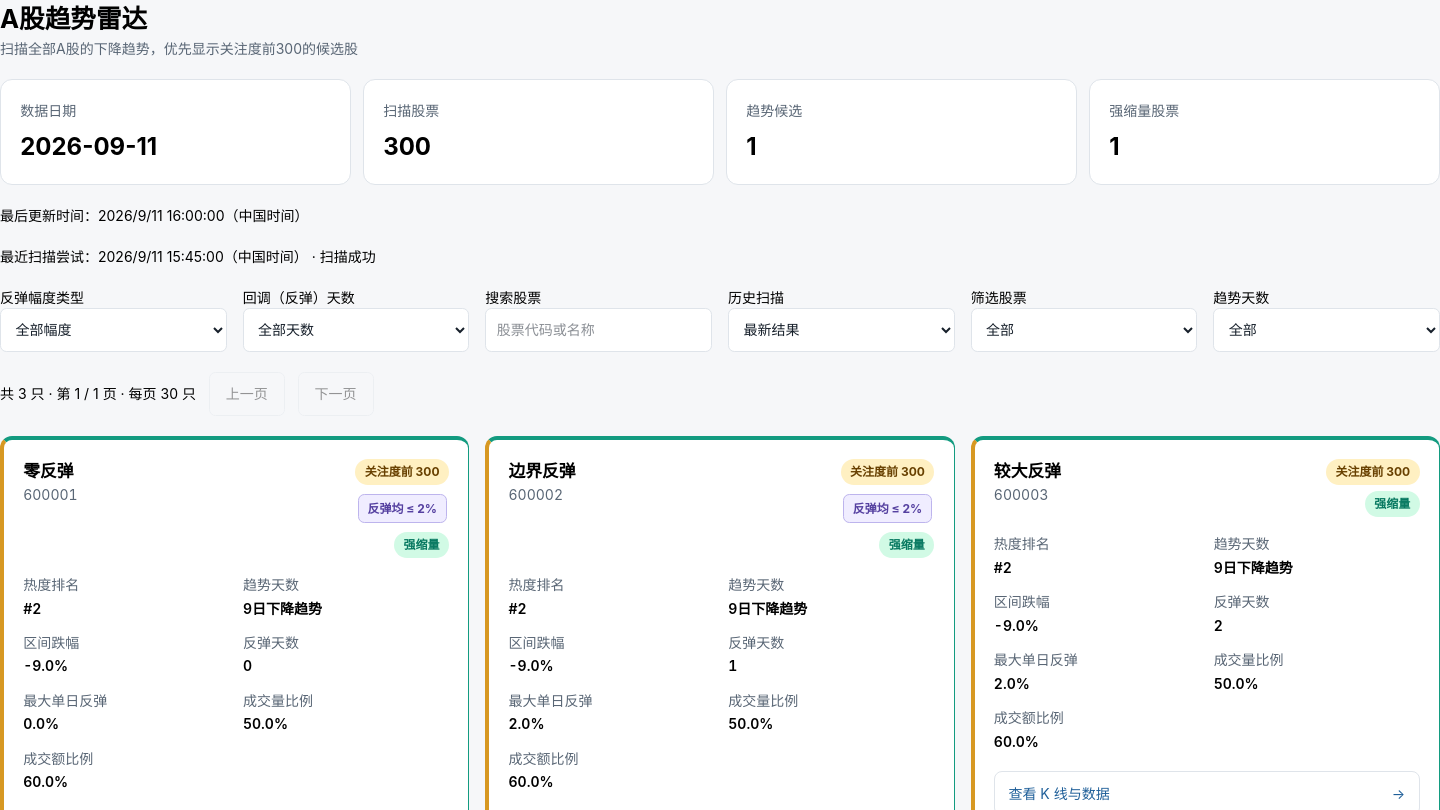
Test: Trend Radar › combines rebound-day and mild-amplitude filters without excluding larger rebounds by default
Expected: the link "较大反弹" is shown, [994,461,1061,481]
Expected: the text "反弹均 ≤ 2%" is shown 2 times, [358,494,447,523]; [843,494,932,523]
Select "0 天反弹" in the dropdown labelled "回调（反弹）天数" at [356, 330], box [243,308,469,352]
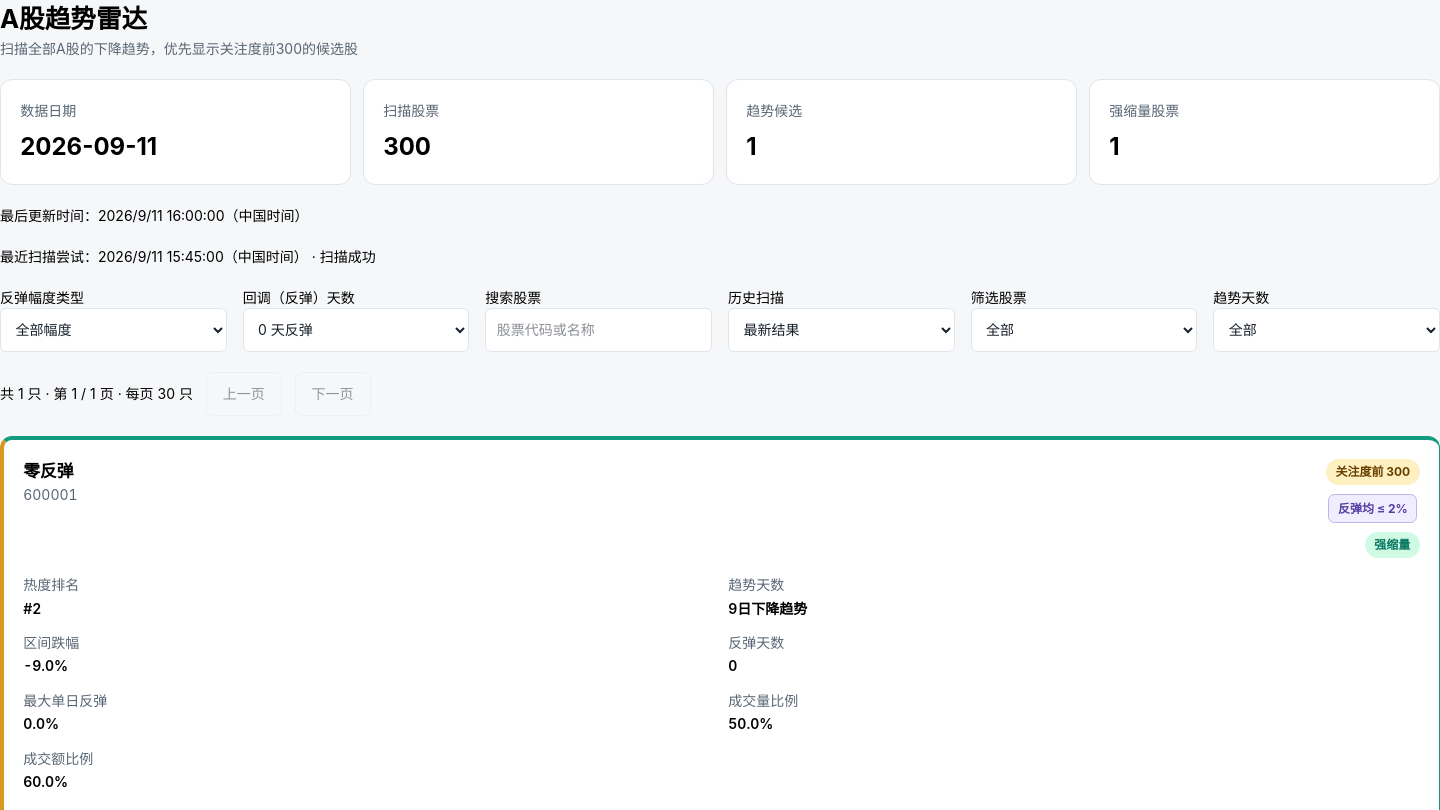
Expected: the link "零反弹" is shown, [23,461,74,481]
Expected: the link "边界反弹" is gone
Select "1 天反弹" in the dropdown labelled "回调（反弹）天数" at [356, 330], box [243,308,469,352]
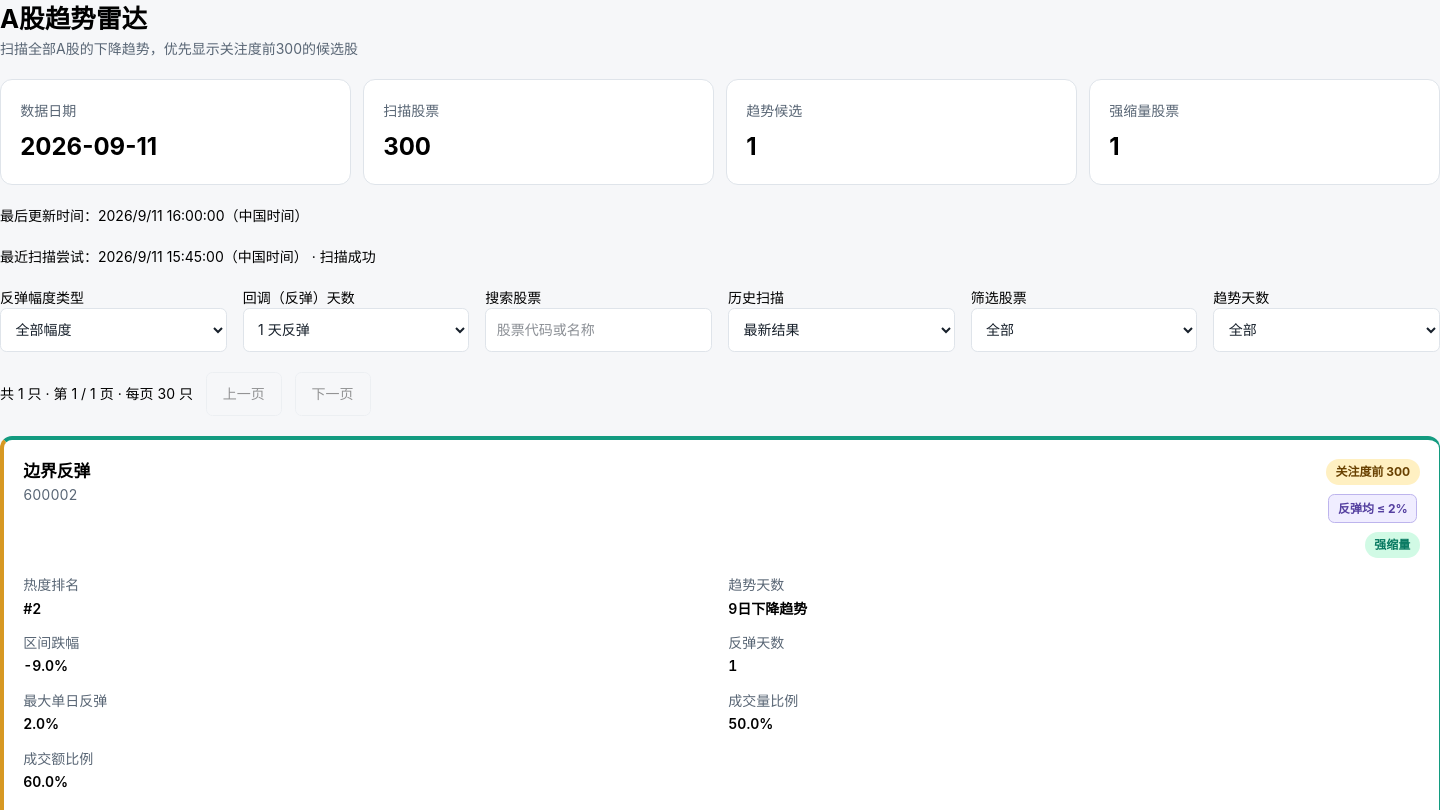
Expected: the link "边界反弹" is shown, [23,461,90,481]
Select "2 天反弹" in the dropdown labelled "回调（反弹）天数" at [356, 330], box [243,308,469,352]
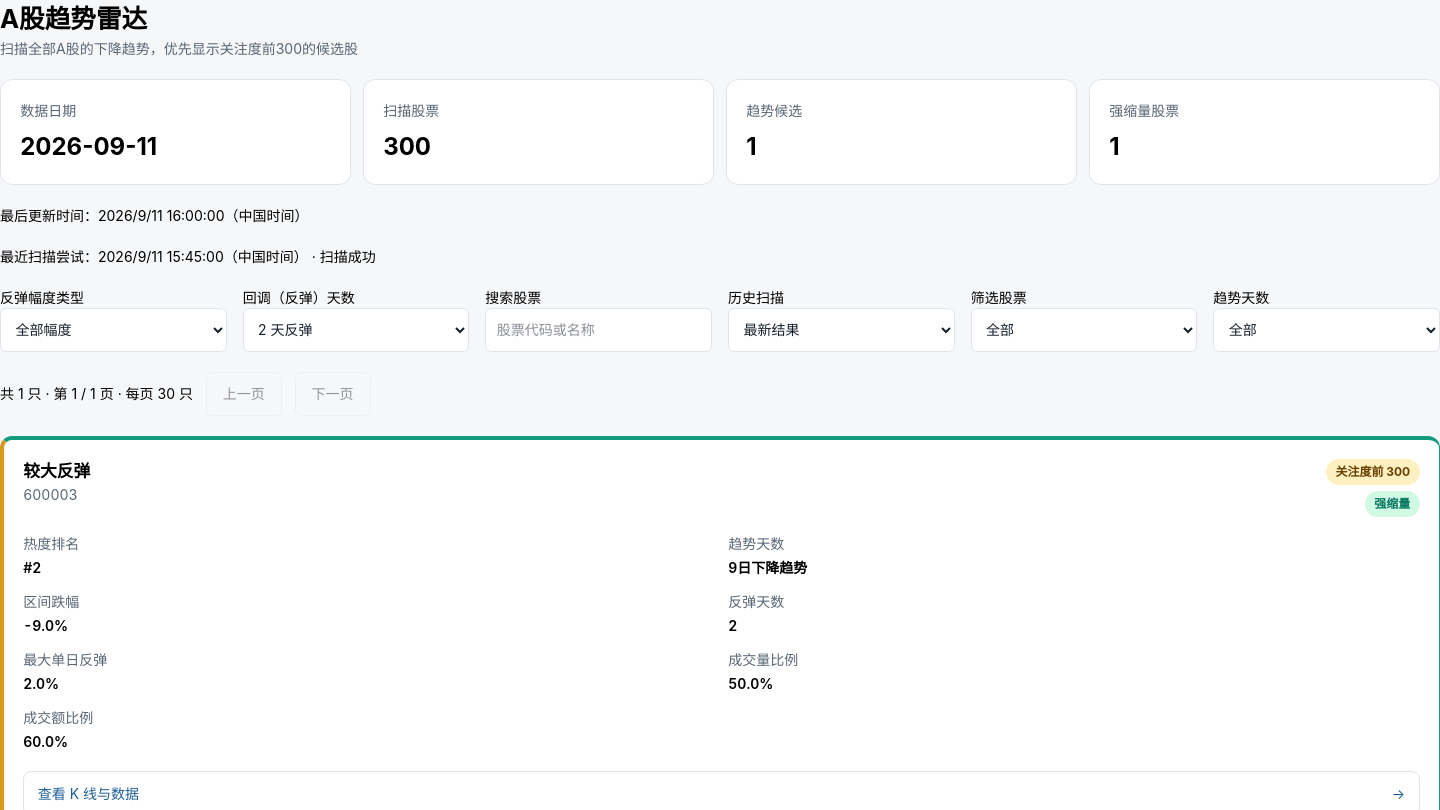
Expected: the link "较大反弹" is shown, [23,461,90,481]
Select "反弹均 ≤ 2%（含无反弹）" in the dropdown labelled "反弹幅度类型" at [113, 330], box [0,308,227,352]
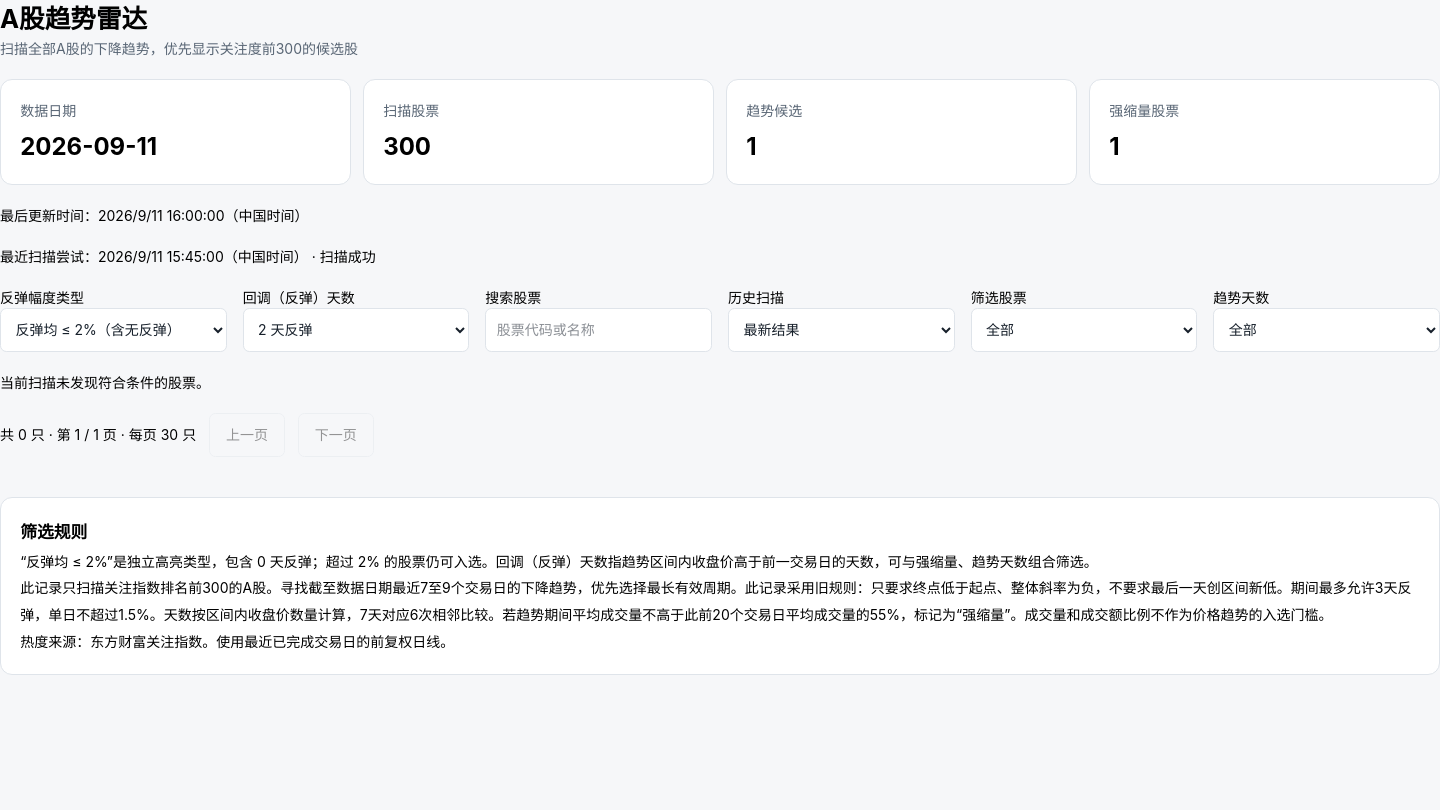
Expected: the link "较大反弹" is gone
Select "全部天数" in the dropdown labelled "回调（反弹）天数" at [356, 330], box [243,308,469,352]
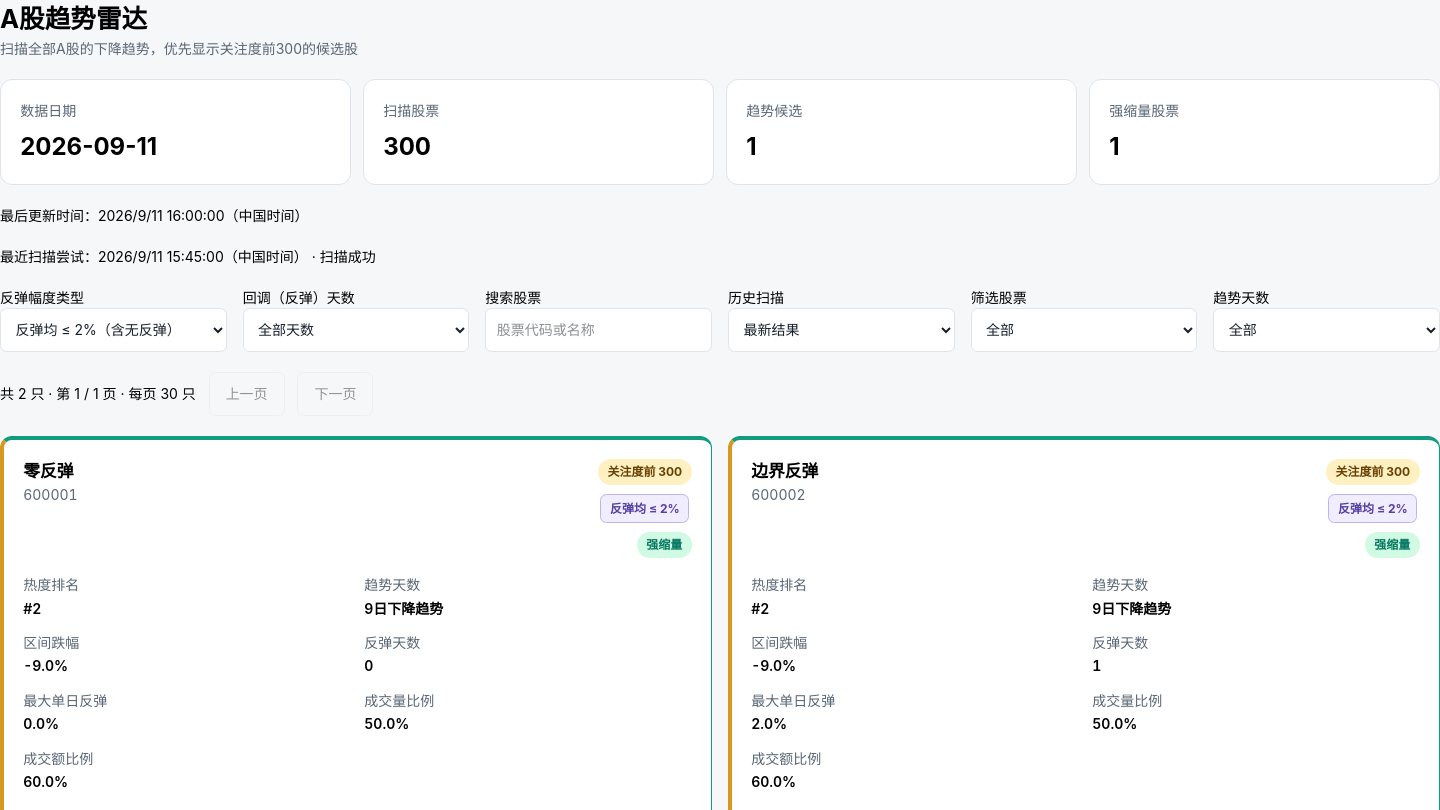
Expected: the link "零反弹" is shown, [23,461,74,481]
Expected: the link "边界反弹" is shown, [751,461,818,481]
